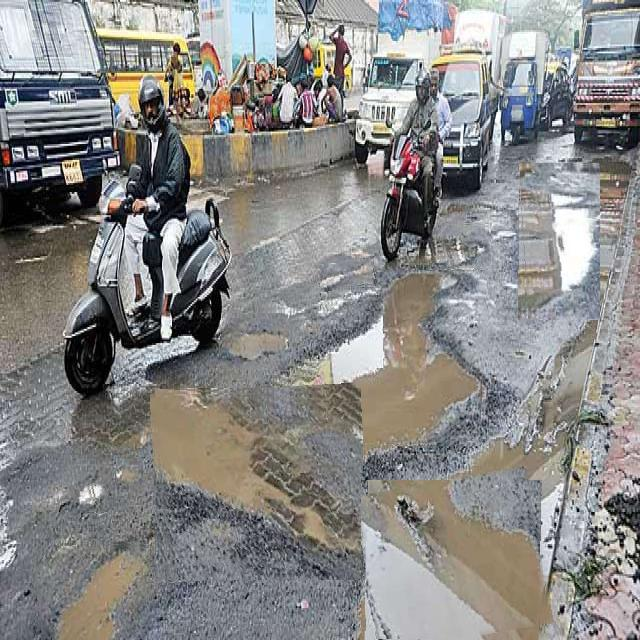Pothole: (153, 386, 363, 580), (361, 473, 548, 640), (383, 270, 489, 446), (518, 163, 600, 320), (35, 541, 150, 640), (222, 313, 288, 370), (440, 222, 491, 268), (65, 468, 112, 513), (318, 261, 374, 290), (116, 458, 143, 483)
